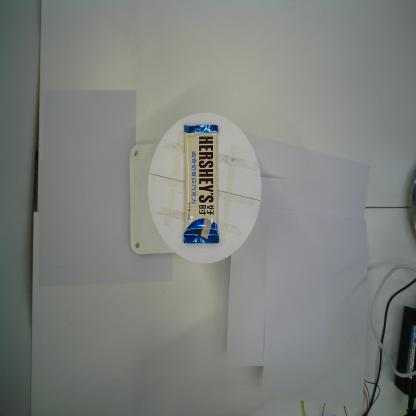Chocolate: (183, 123, 220, 246)
